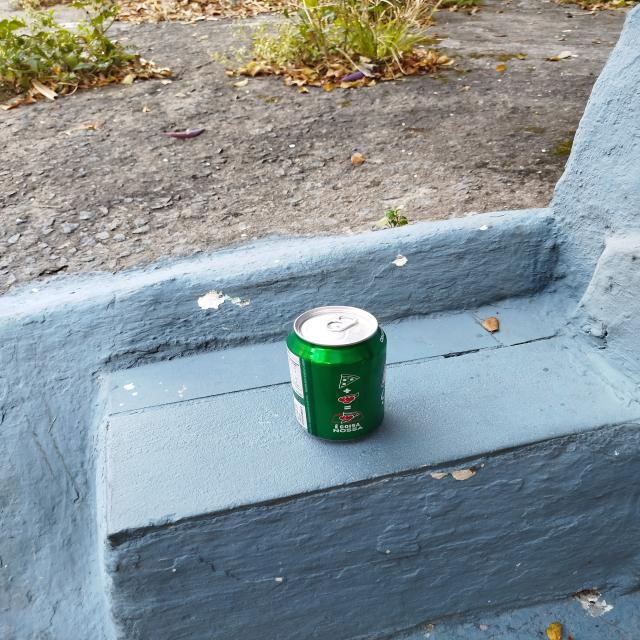Guarana: (288, 306, 389, 441)
